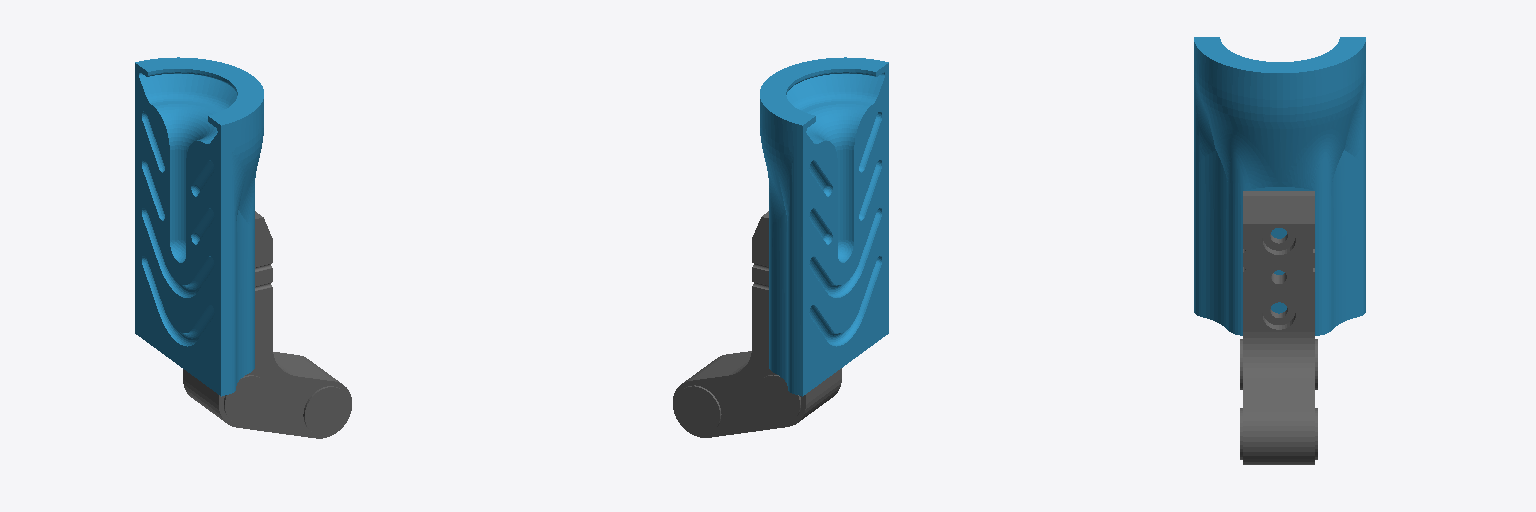
The model's file is inner_finger_fine.obj.
3 renders of one model, left to right at view 1: azimuth 30°, elevation 25°; view 2: azimuth 150°, elevation 25°; view 3: azimuth 270°, elevation 25°, orthographic.
Parts seen in each view (by area): view 1: finger_tip_fine, inner_finger_fine; view 2: finger_tip_fine, inner_finger_fine; view 3: finger_tip_fine, inner_finger_fine.
Boxes of the visible parts, x1,y1,x2,y2 form: finger_tip_fine: [135, 57, 263, 396]; inner_finger_fine: [183, 211, 351, 438]; finger_tip_fine: [760, 57, 888, 396]; inner_finger_fine: [673, 211, 841, 437]; finger_tip_fine: [1194, 37, 1365, 335]; inner_finger_fine: [1240, 191, 1317, 464].
Bounding box in the file's own units: 0.035 × 0.0776 × 0.0335.